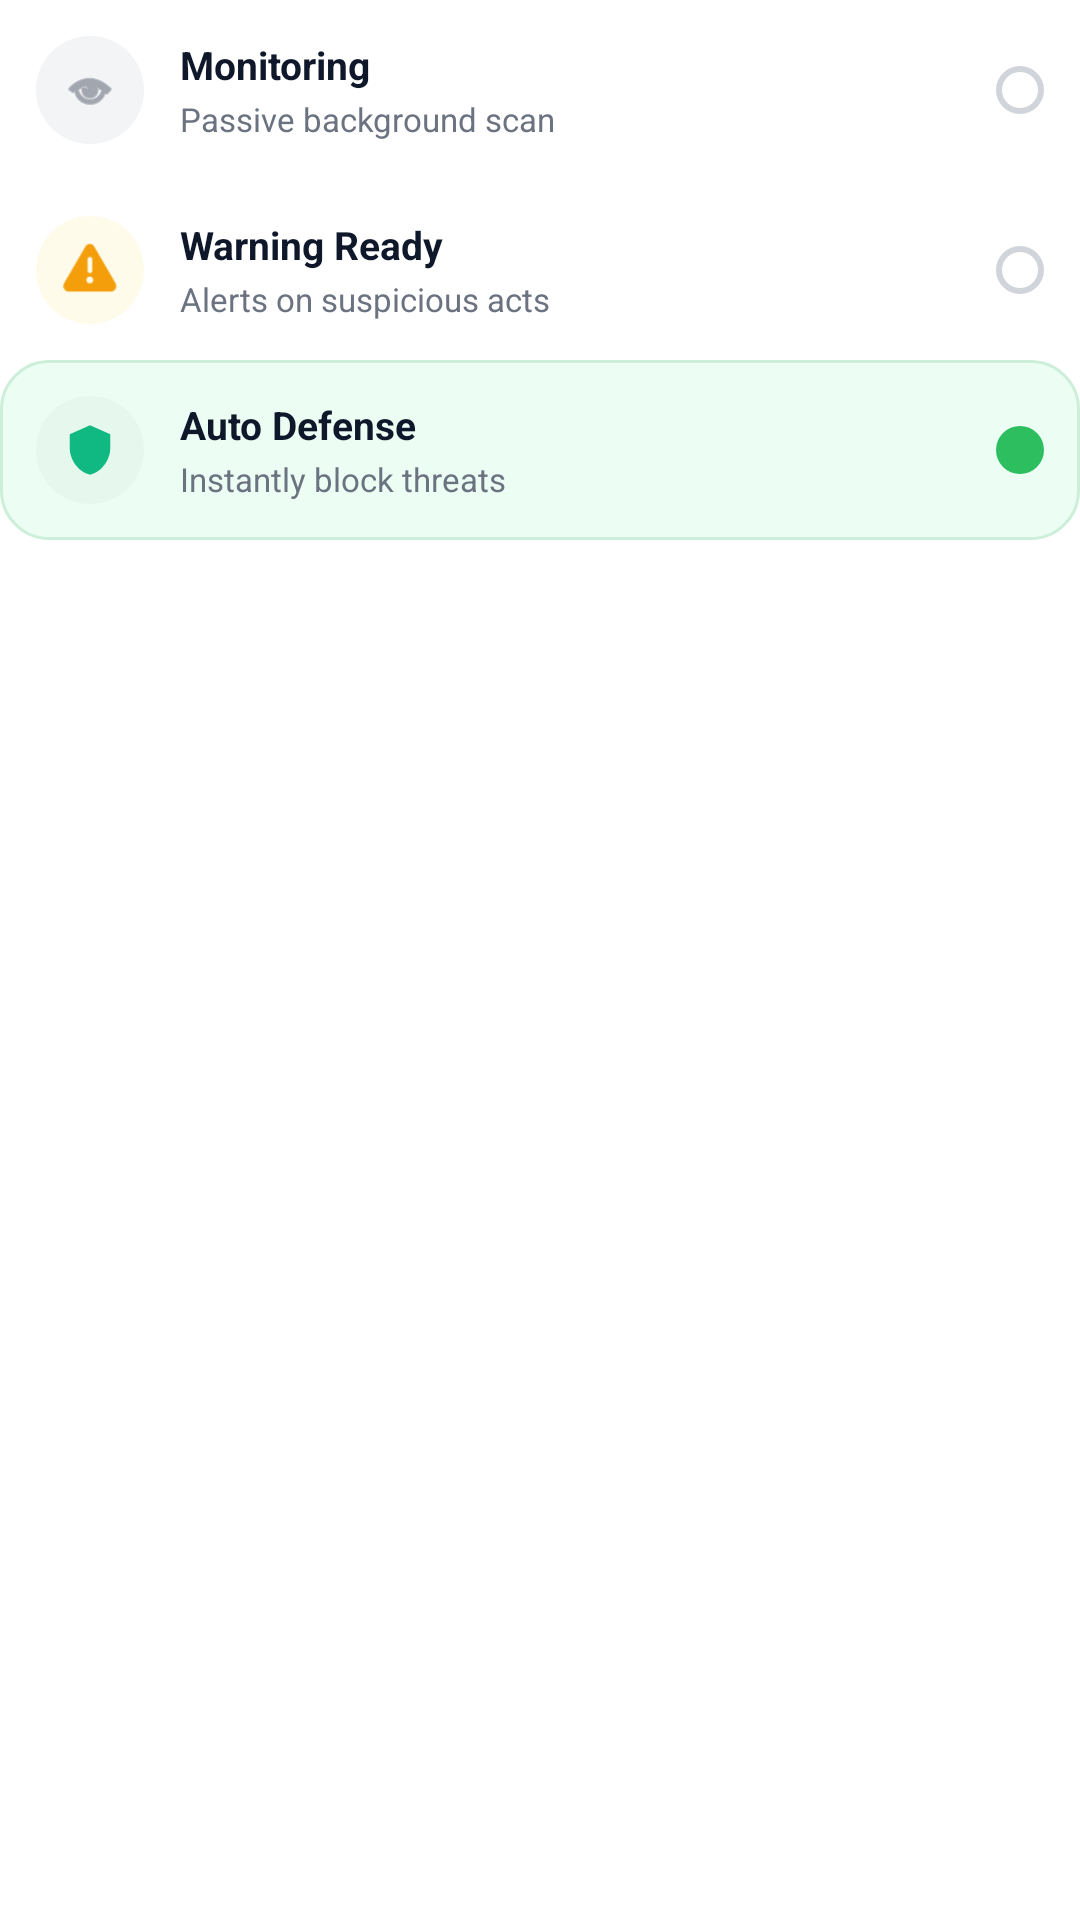

Where icons sit on this 1080w x 1920h app screen, as box=[x1, y1, x2, y2]:
home radio off: box=[996, 66, 1044, 114], box=[996, 246, 1044, 294]
intro shield: box=[69, 425, 111, 475]
view: box=[68, 78, 112, 105]
